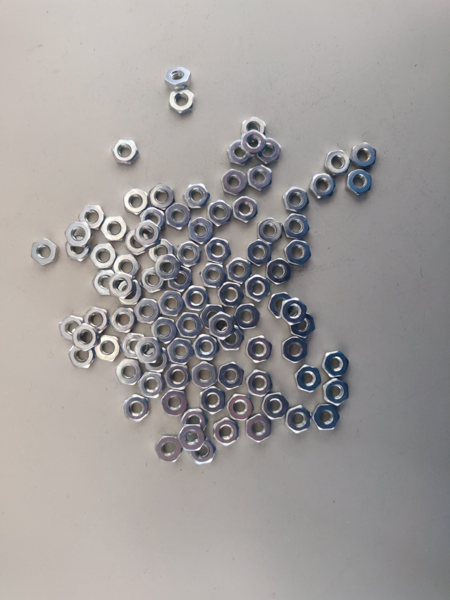nut: (155, 435, 183, 463), (73, 323, 100, 352), (261, 393, 289, 420), (246, 369, 273, 397), (167, 338, 195, 365), (92, 268, 119, 296), (286, 405, 312, 434), (246, 414, 272, 443), (214, 417, 240, 446), (134, 298, 163, 324), (154, 255, 183, 281), (123, 393, 148, 423), (294, 365, 321, 392), (246, 336, 273, 363), (178, 424, 205, 451), (31, 239, 58, 266), (121, 333, 148, 360), (68, 342, 95, 369), (83, 307, 110, 334), (112, 139, 139, 166), (309, 172, 336, 199), (281, 298, 308, 325), (151, 317, 178, 344), (312, 405, 340, 431), (323, 350, 349, 378), (281, 336, 307, 364), (227, 394, 255, 420), (218, 362, 244, 390), (199, 387, 225, 415), (182, 285, 210, 311), (200, 262, 228, 288), (188, 217, 214, 245), (191, 361, 216, 390), (209, 311, 234, 340), (65, 237, 94, 262), (190, 438, 216, 465), (165, 364, 191, 391), (283, 186, 309, 213), (283, 213, 310, 239), (284, 240, 311, 266), (227, 139, 253, 166), (221, 169, 247, 196), (218, 281, 245, 307), (158, 290, 185, 316), (205, 237, 231, 264), (140, 266, 166, 293), (138, 371, 163, 399), (116, 358, 141, 386), (325, 150, 350, 178), (177, 240, 202, 268), (65, 222, 93, 247), (193, 334, 219, 360), (347, 170, 373, 196), (149, 184, 175, 210), (101, 216, 127, 242), (162, 390, 187, 417), (109, 307, 136, 332), (257, 138, 282, 165), (234, 304, 261, 329), (134, 338, 162, 362), (181, 410, 207, 435), (169, 89, 195, 114), (248, 165, 273, 191), (268, 292, 293, 318), (168, 266, 193, 292), (90, 243, 116, 268), (95, 335, 119, 362), (60, 314, 84, 341), (165, 67, 192, 91), (233, 196, 257, 223), (208, 200, 232, 227), (267, 258, 291, 285), (176, 313, 203, 337), (112, 255, 139, 279), (78, 205, 105, 229), (246, 274, 269, 302), (248, 239, 271, 267), (352, 142, 377, 167), (324, 379, 348, 405), (258, 218, 282, 244), (242, 130, 266, 156), (184, 184, 210, 208), (291, 312, 315, 338), (221, 325, 245, 351), (200, 305, 226, 329), (166, 203, 190, 229), (124, 188, 148, 214), (135, 220, 159, 246), (243, 115, 266, 142), (144, 348, 168, 373), (109, 272, 132, 298), (125, 229, 148, 255), (227, 258, 252, 281), (119, 280, 142, 304), (142, 207, 164, 231), (149, 239, 174, 260)
